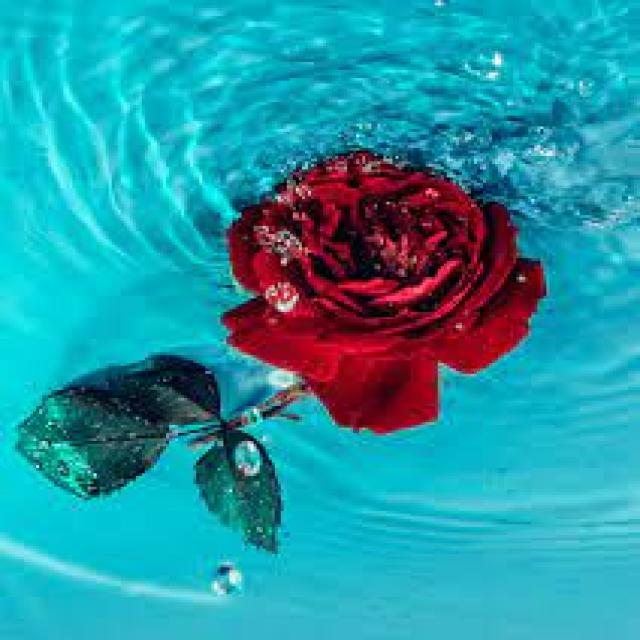rose: (207, 143, 564, 444)
